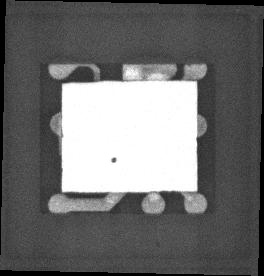DIE_INK: (104, 162, 113, 173)
